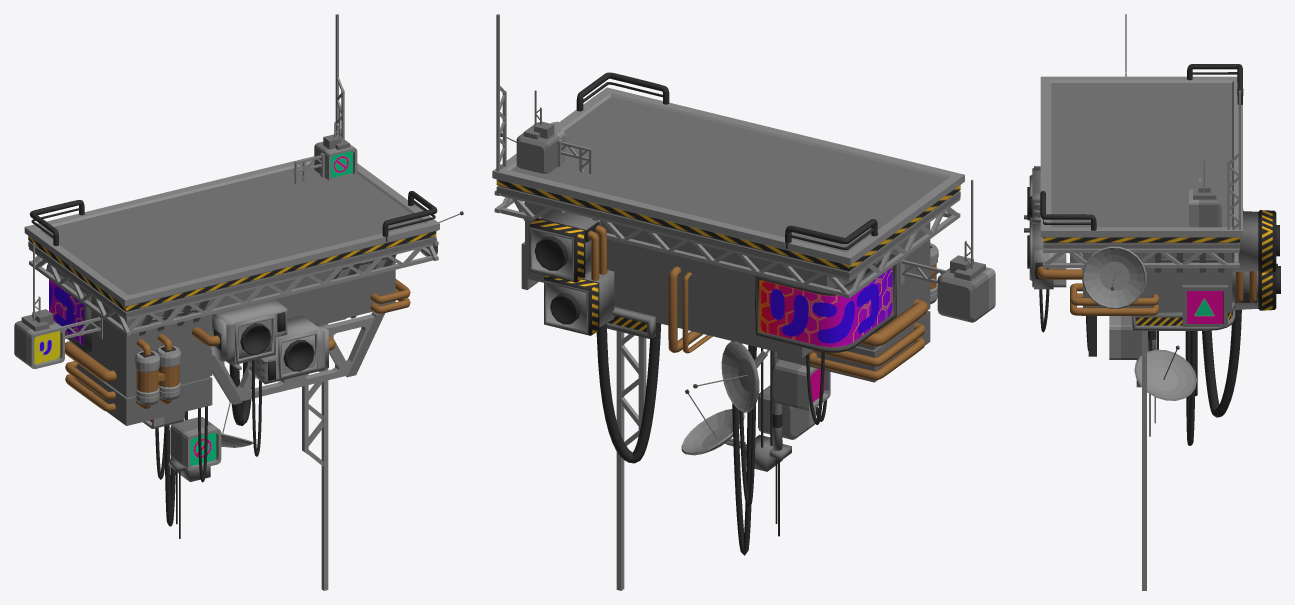
File: Platform_4x2.glb
3 views of the same model, side by side, from view 1: azimuth 30°, elevation 25°; view 2: azimuth 150°, elevation 25°; view 3: azimuth 270°, elevation 25° (orthographic). The views are drawn at different scales.
Parts seen in each view (by area): view 1: Platform_4x2_geometry; view 2: Platform_4x2_geometry; view 3: Platform_4x2_geometry.
Part boxes in pixels (x1,y1,x2,y2): Platform_4x2_geometry: (14, 14, 463, 590); Platform_4x2_geometry: (492, 14, 995, 590); Platform_4x2_geometry: (1024, 14, 1280, 590).
Bounding box in the file's own units: 5.32 × 6.16 × 2.71.
Materials: 6 (1 with a texture image).
